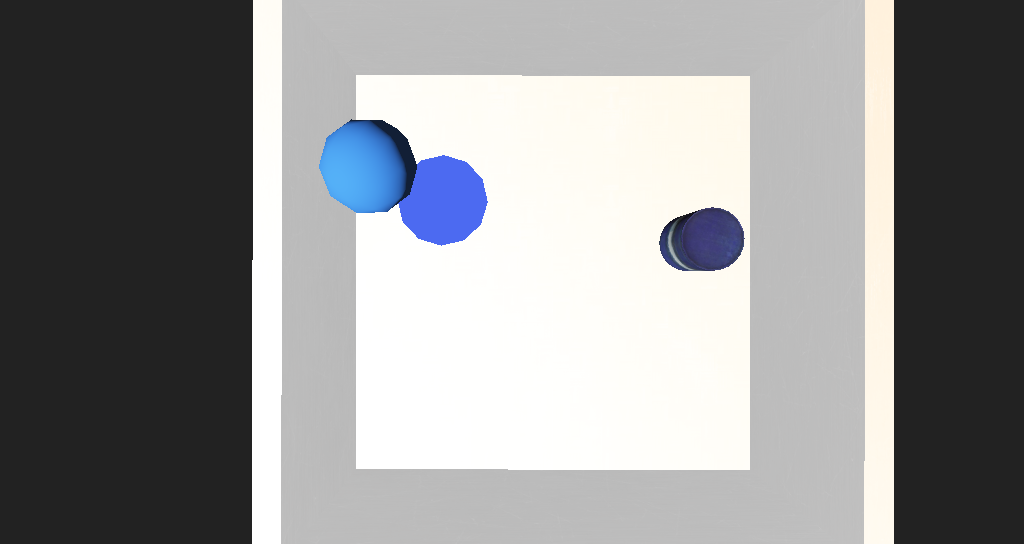cone: (586, 236, 640, 270)
cylinder: (387, 205, 461, 253)
sphere: (330, 188, 397, 241)
